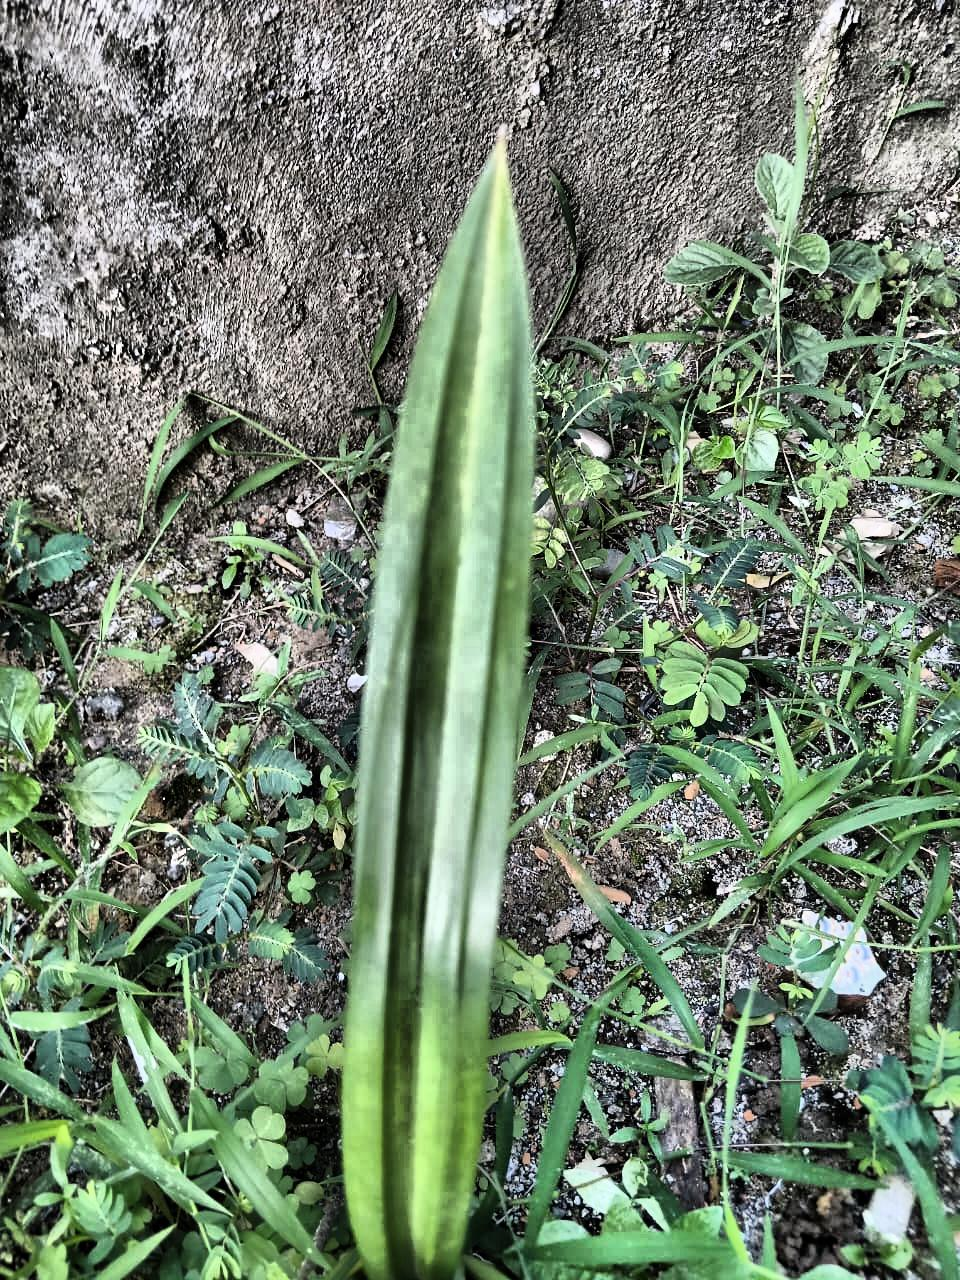daun pandan: (341, 138, 536, 1279)
